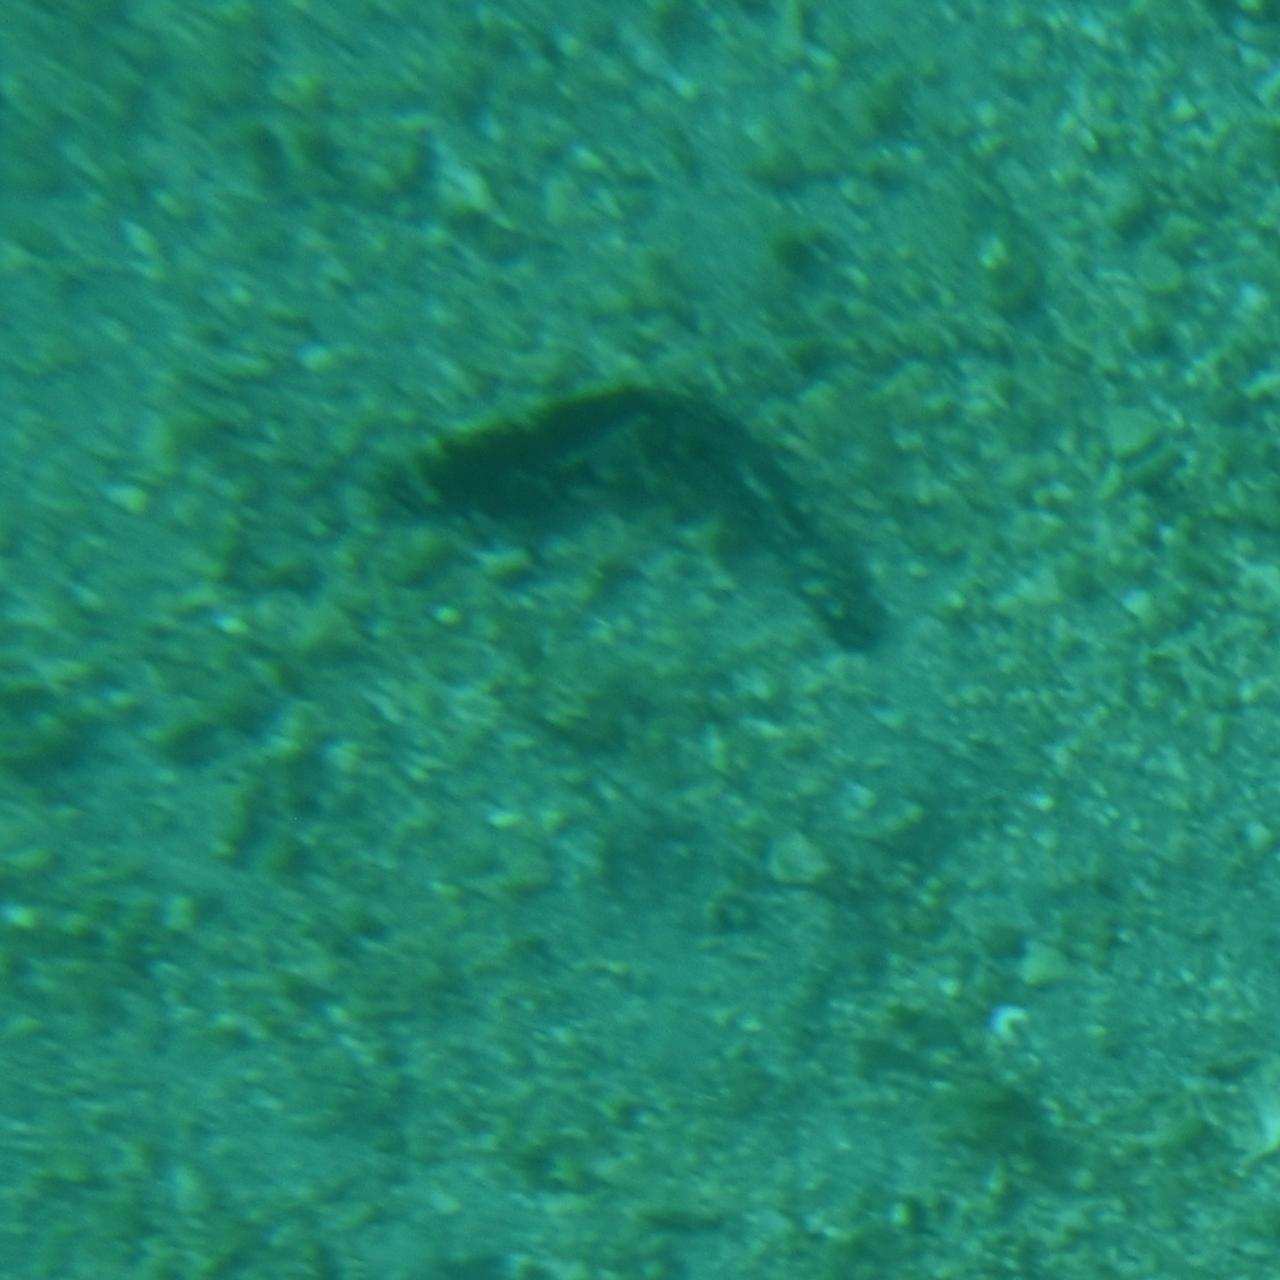Holothuria tubulosa: (388, 388, 892, 661)
